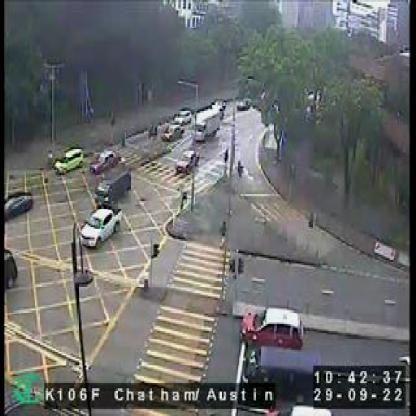Car: (236, 348, 324, 399), (233, 302, 304, 346), (78, 205, 124, 246), (94, 163, 131, 204), (0, 186, 34, 220), (87, 142, 122, 172), (53, 142, 82, 177), (173, 147, 200, 172), (160, 121, 184, 142)
Truck: (191, 108, 221, 140)
